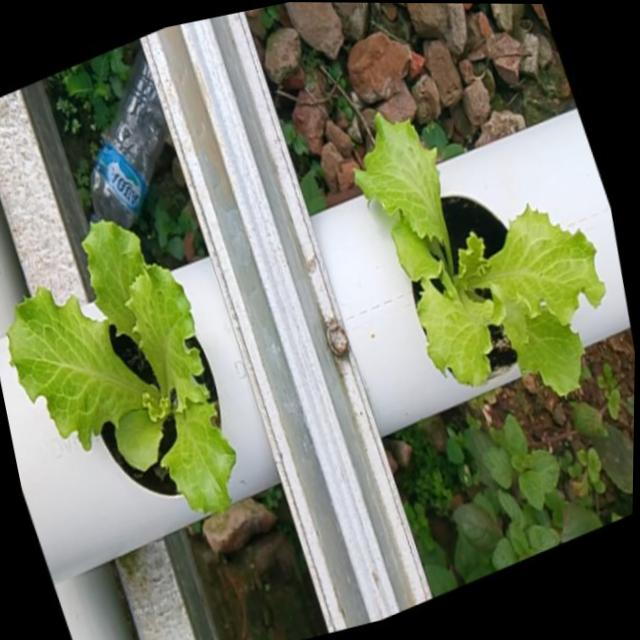Baby: (358, 115, 610, 396), (11, 219, 242, 514)
